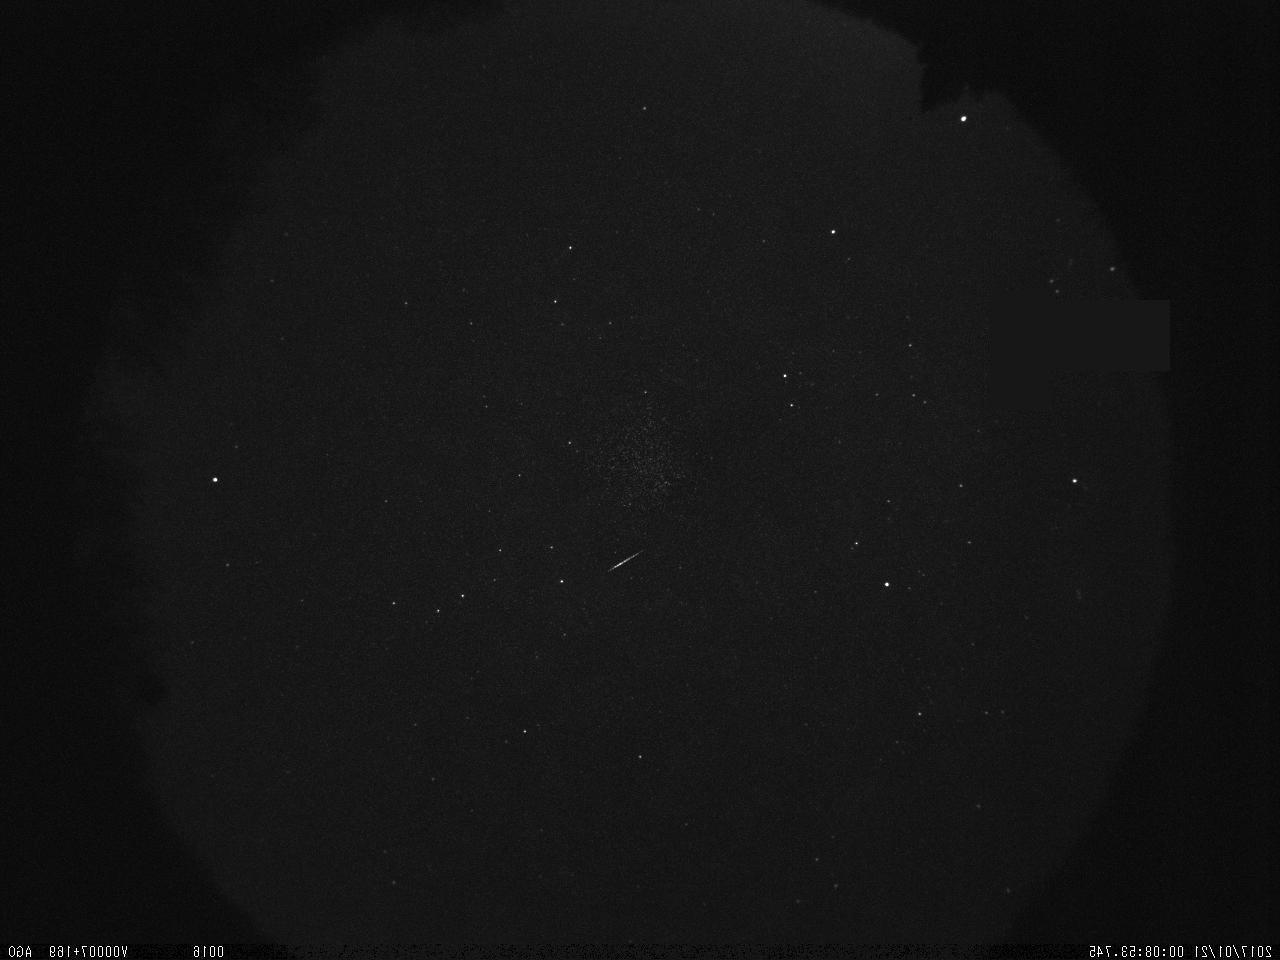meteor: (598, 541, 654, 580)
